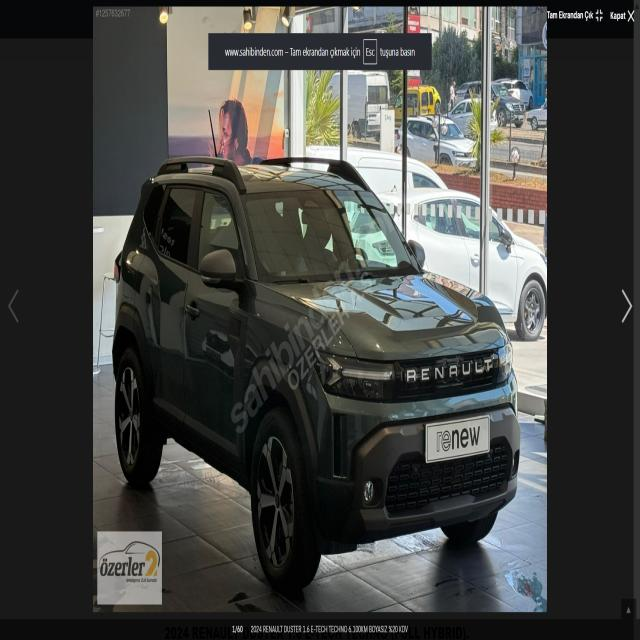renault: (391, 352, 501, 394)
